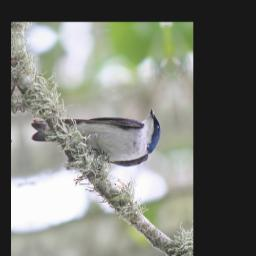Swallow: (28, 100, 166, 181)
